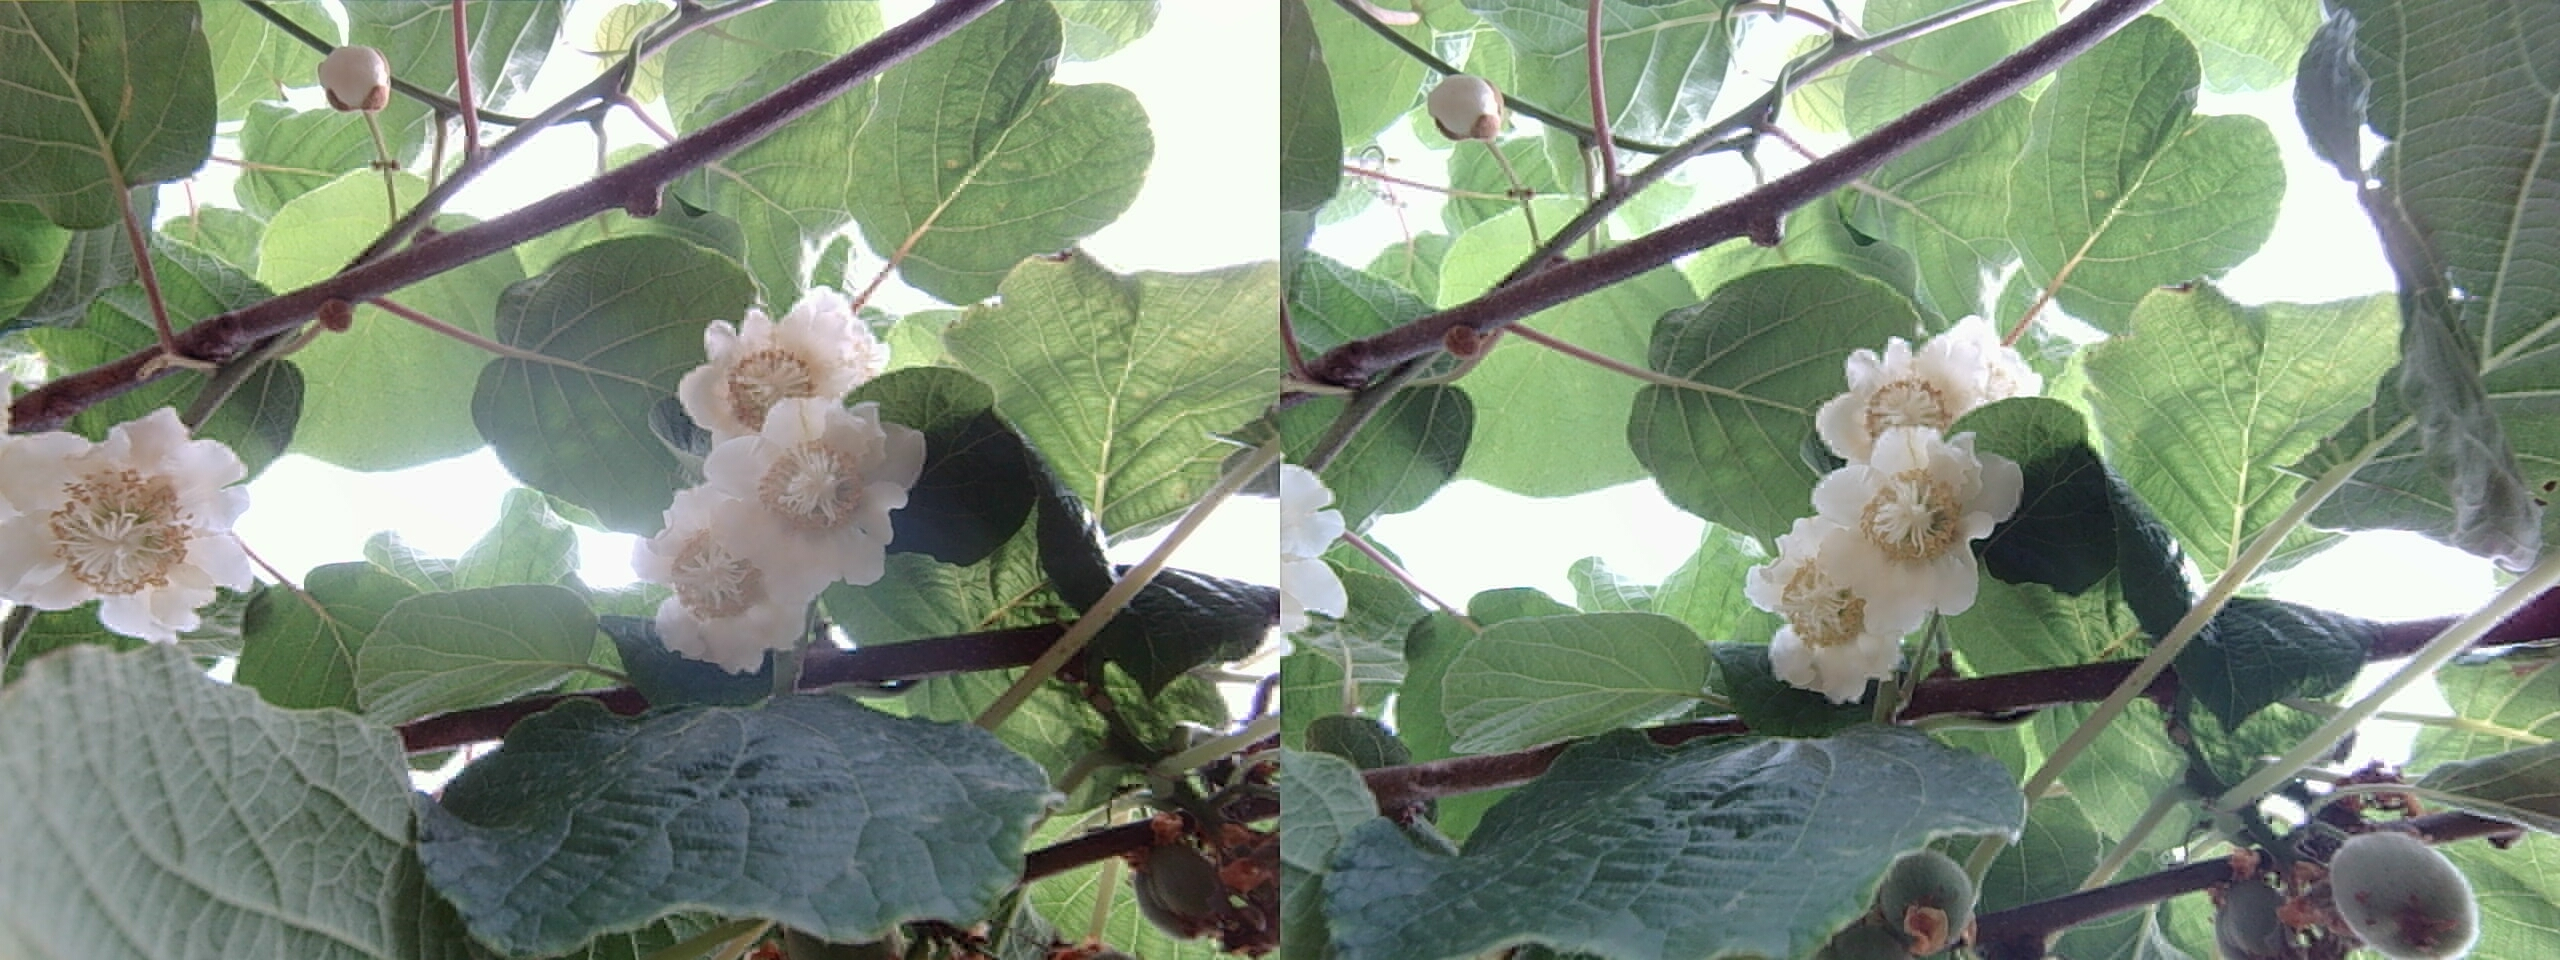flower: (1729, 397, 2034, 696), (612, 395, 934, 666), (0, 410, 255, 650), (664, 287, 887, 452), (1816, 325, 2031, 465)
